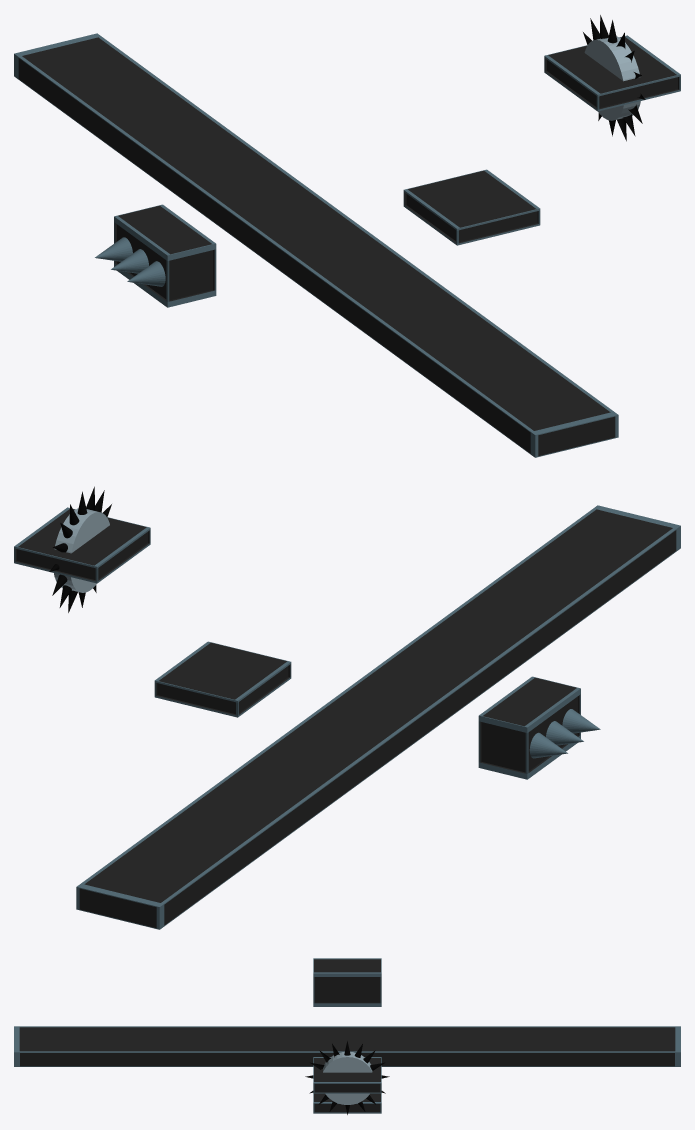
Rendered from Street.fbx.
3 renders of one model, top to bottom at view 1: azimuth 30°, elevation 25°; view 2: azimuth 150°, elevation 25°; view 3: azimuth 270°, elevation 25°, orthographic. The views are drawn at different scales.
Parts seen in each view (by area): view 1: Cube, Cube.004, Cube.001, Cube.002, Cube.003; view 2: Cube, Cube.004, Cube.001, Cube.002, Cube.003; view 3: Cube, Cube.004, Cube.003, Cube.002, Cube.001.
Boxes of the visible parts, x1,y1,x2,y2 form: Cube: (14,33,618,457); Cube.004: (95,204,216,307); Cube.001: (403,169,540,245); Cube.002: (544,35,680,111); Cube.003: (583,15,645,141); Cube: (76,505,680,929); Cube.004: (478,676,600,779); Cube.001: (154,641,291,717); Cube.002: (14,507,150,583); Cube.003: (49,486,111,612); Cube: (14,1026,680,1066); Cube.004: (313,958,381,1006); Cube.003: (305,1041,389,1114); Cube.002: (313,1057,381,1093); Cube.001: (313,1093,381,1113).
Size of the model in its own units: 17.49 by 5.09 by 29.04.
